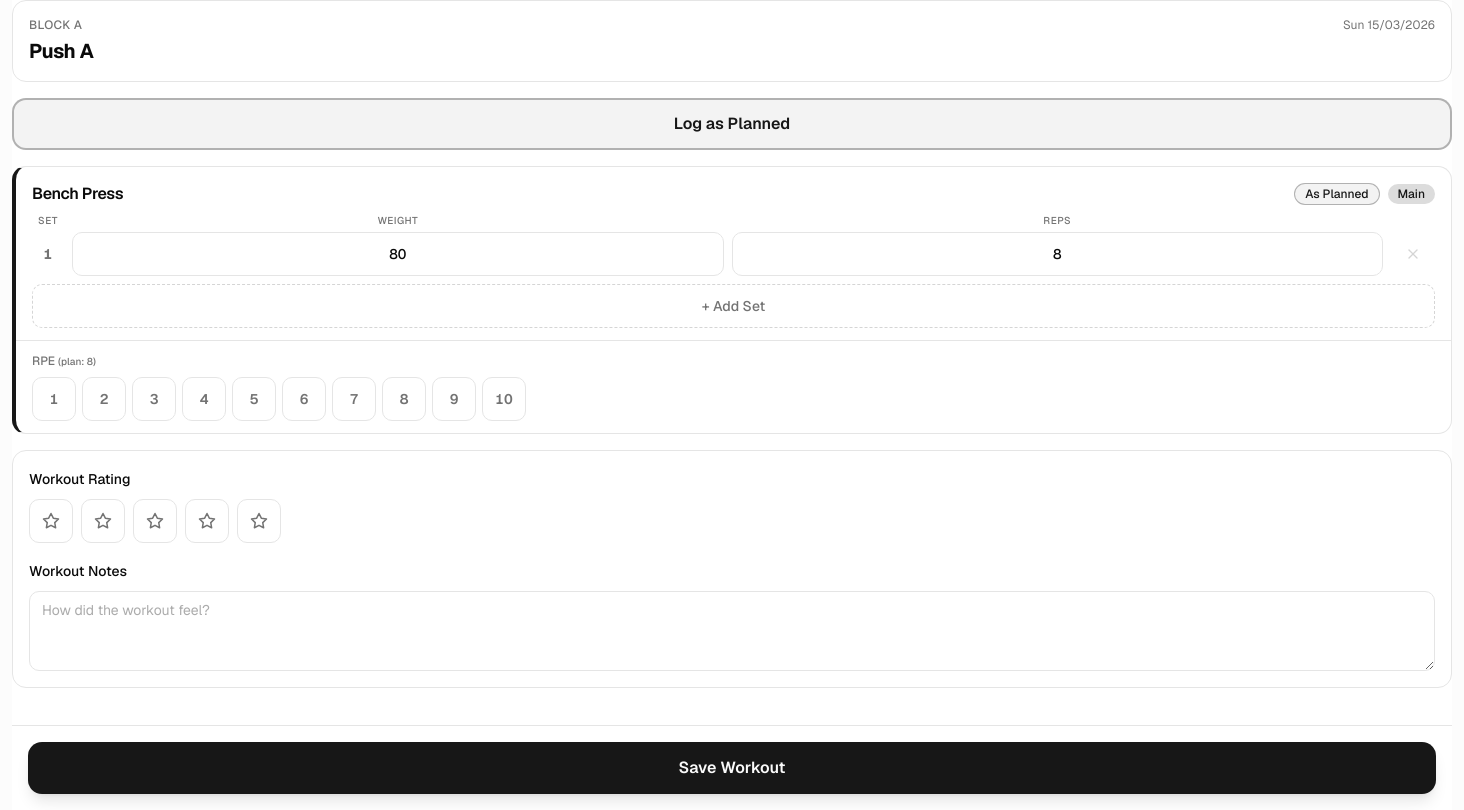
T135 — numeric input migration: workout-logging-form › weight input rejects letters, keeps only digits and decimal
Clear the field with test id "weight-input-0-0" at point(398, 254), box [72, 232, 724, 276]
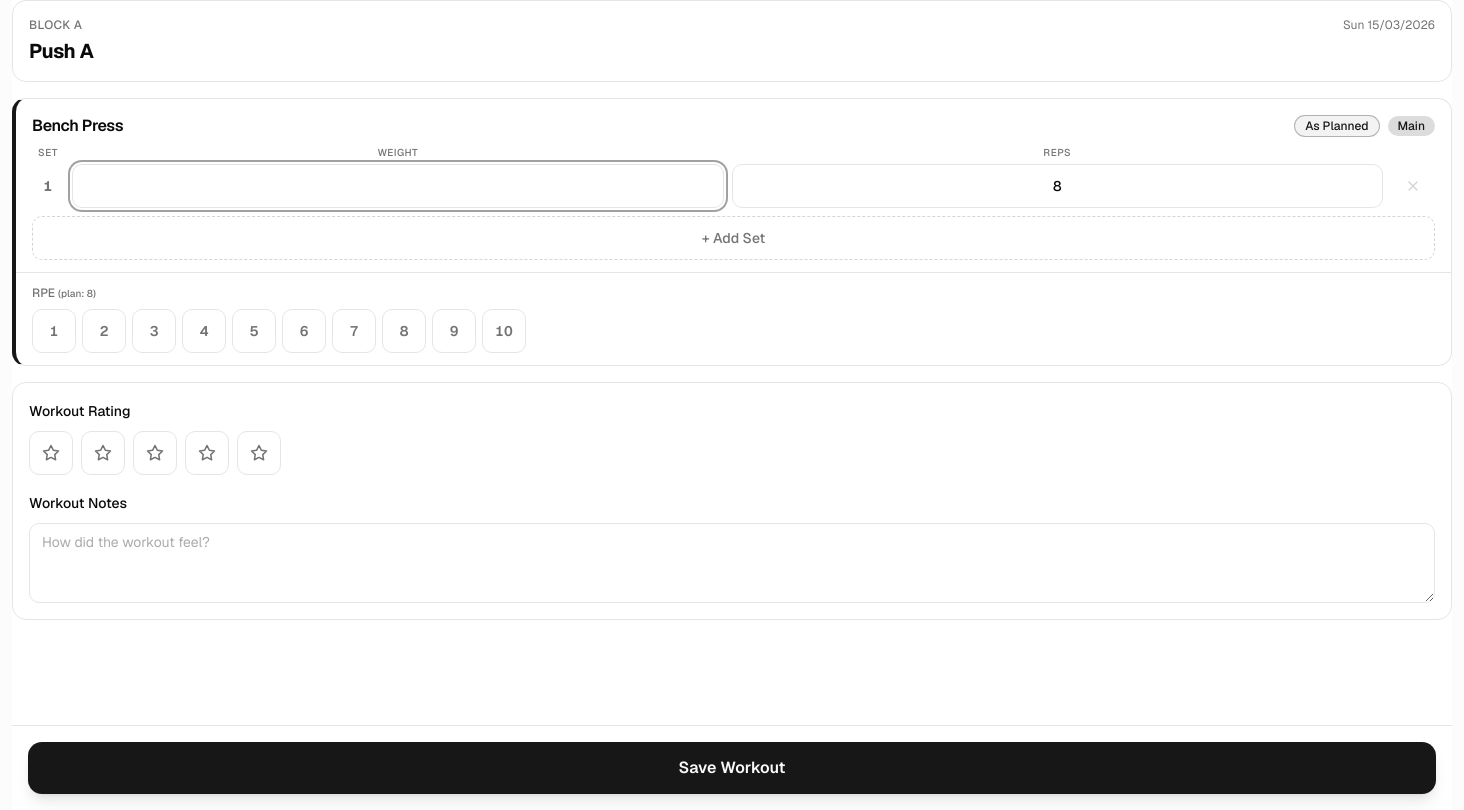
Type "8a2b.5c" into the field with test id "weight-input-0-0".
click(398, 186); type("8a2b.5c")  # box [72, 164, 724, 208]
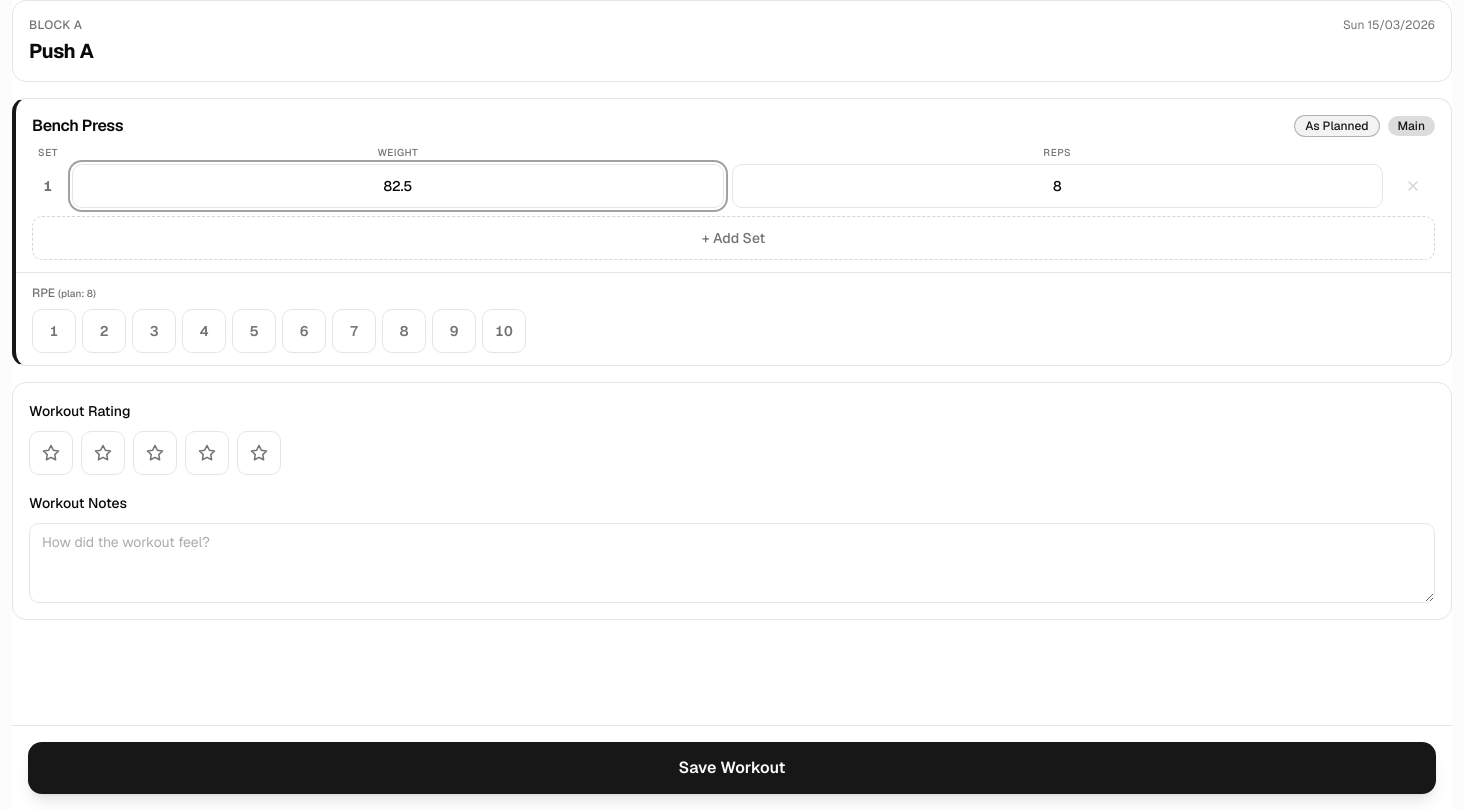
Expected: the field with test id "weight-input-0-0" holds "82.5", [72, 164, 724, 208]
